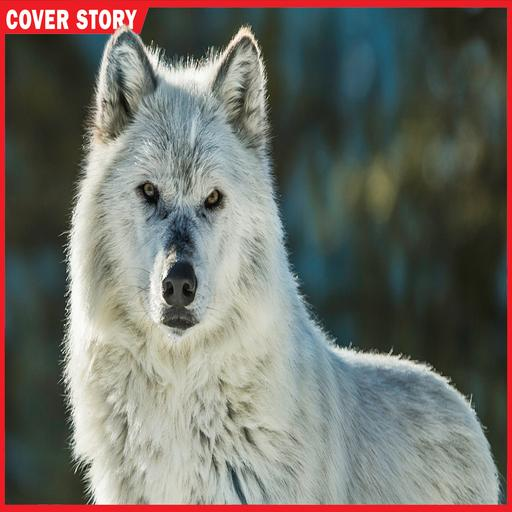Wolf: (56, 22, 512, 509)
